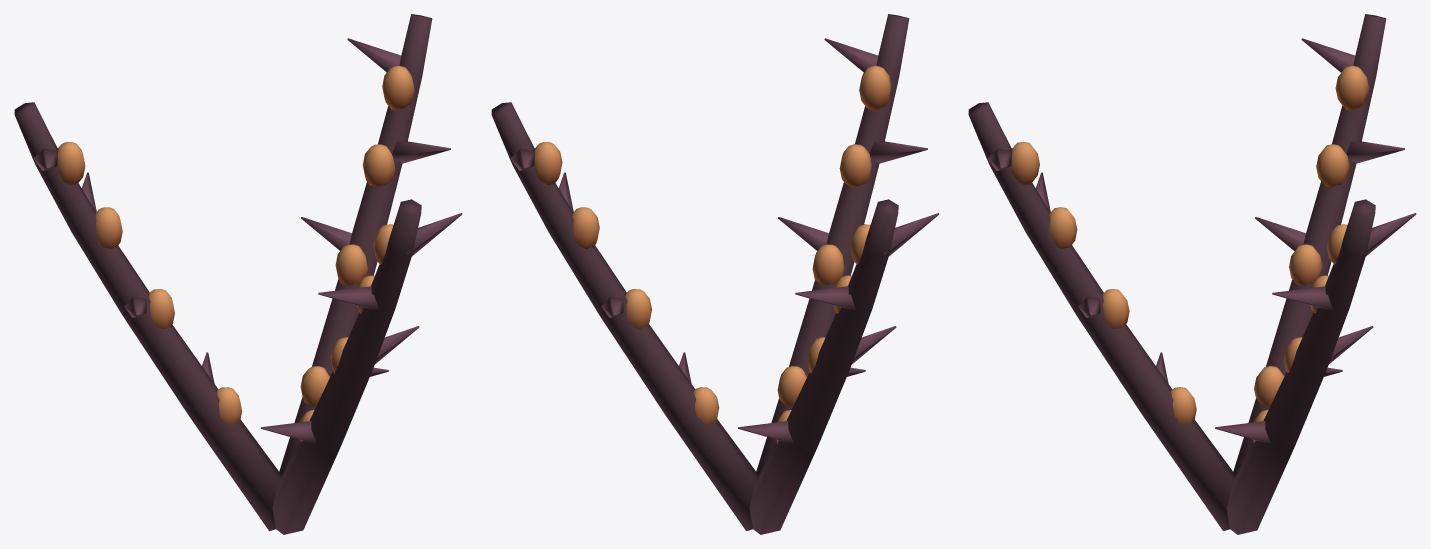
Rendered from ing_thornbriar_sap.glb.
3 views of the same model, side by side, from view 1: azimuth 30°, elevation 25°; view 2: azimuth 150°, elevation 25°; view 3: azimuth 270°, elevation 25° (orthographic).
Parts seen in each view (by area): view 1: ing_thornbriar_sap; view 2: ing_thornbriar_sap; view 3: ing_thornbriar_sap.
Part boxes in pixels (bbox=[...]): ing_thornbriar_sap: bbox=[14, 14, 462, 534]; ing_thornbriar_sap: bbox=[491, 14, 939, 534]; ing_thornbriar_sap: bbox=[968, 14, 1416, 534].
Size of what is drawn, in the model's own units: 0.4125 by 0.3966 by 0.384.
